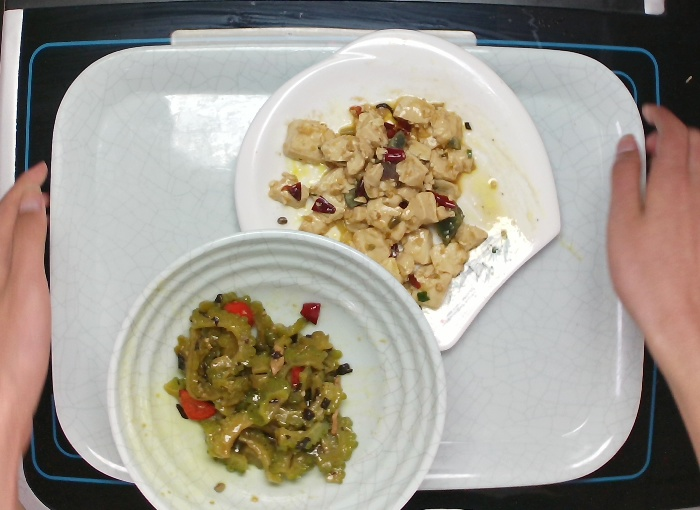JYsf-Da_Tang_Wan: (103, 224, 449, 510)
JYsf-Mian_Pan: (226, 25, 565, 357)
